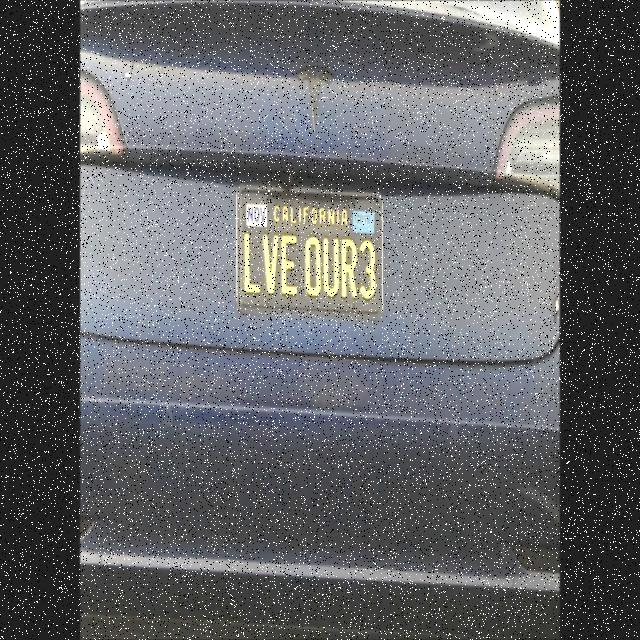licenseplate: (235, 190, 386, 318)
